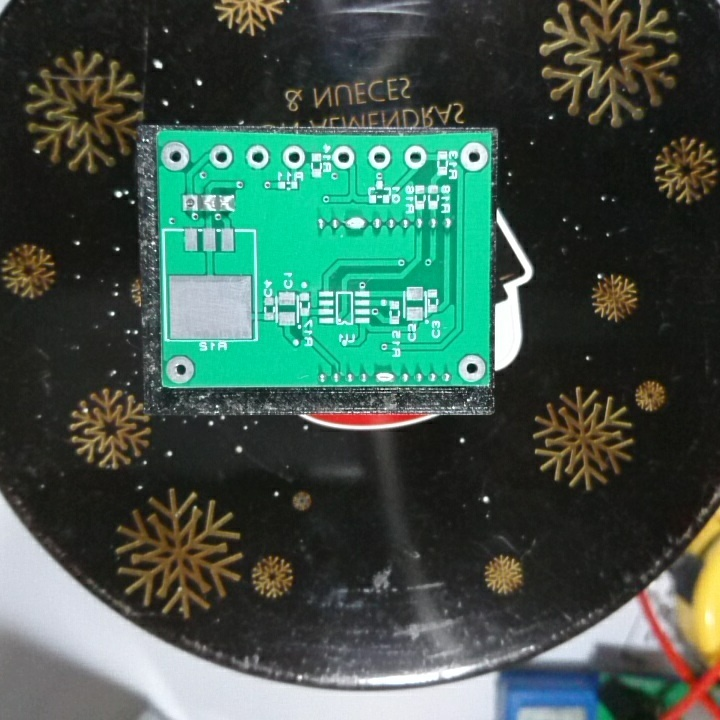F: (157, 136, 191, 178), (459, 140, 490, 175), (454, 352, 487, 384), (162, 353, 196, 383), (241, 142, 273, 173), (207, 143, 238, 172), (279, 143, 310, 172), (401, 143, 430, 172), (329, 143, 358, 171), (367, 143, 393, 171), (180, 191, 199, 217)
P: (343, 212, 369, 237), (372, 367, 399, 386)
